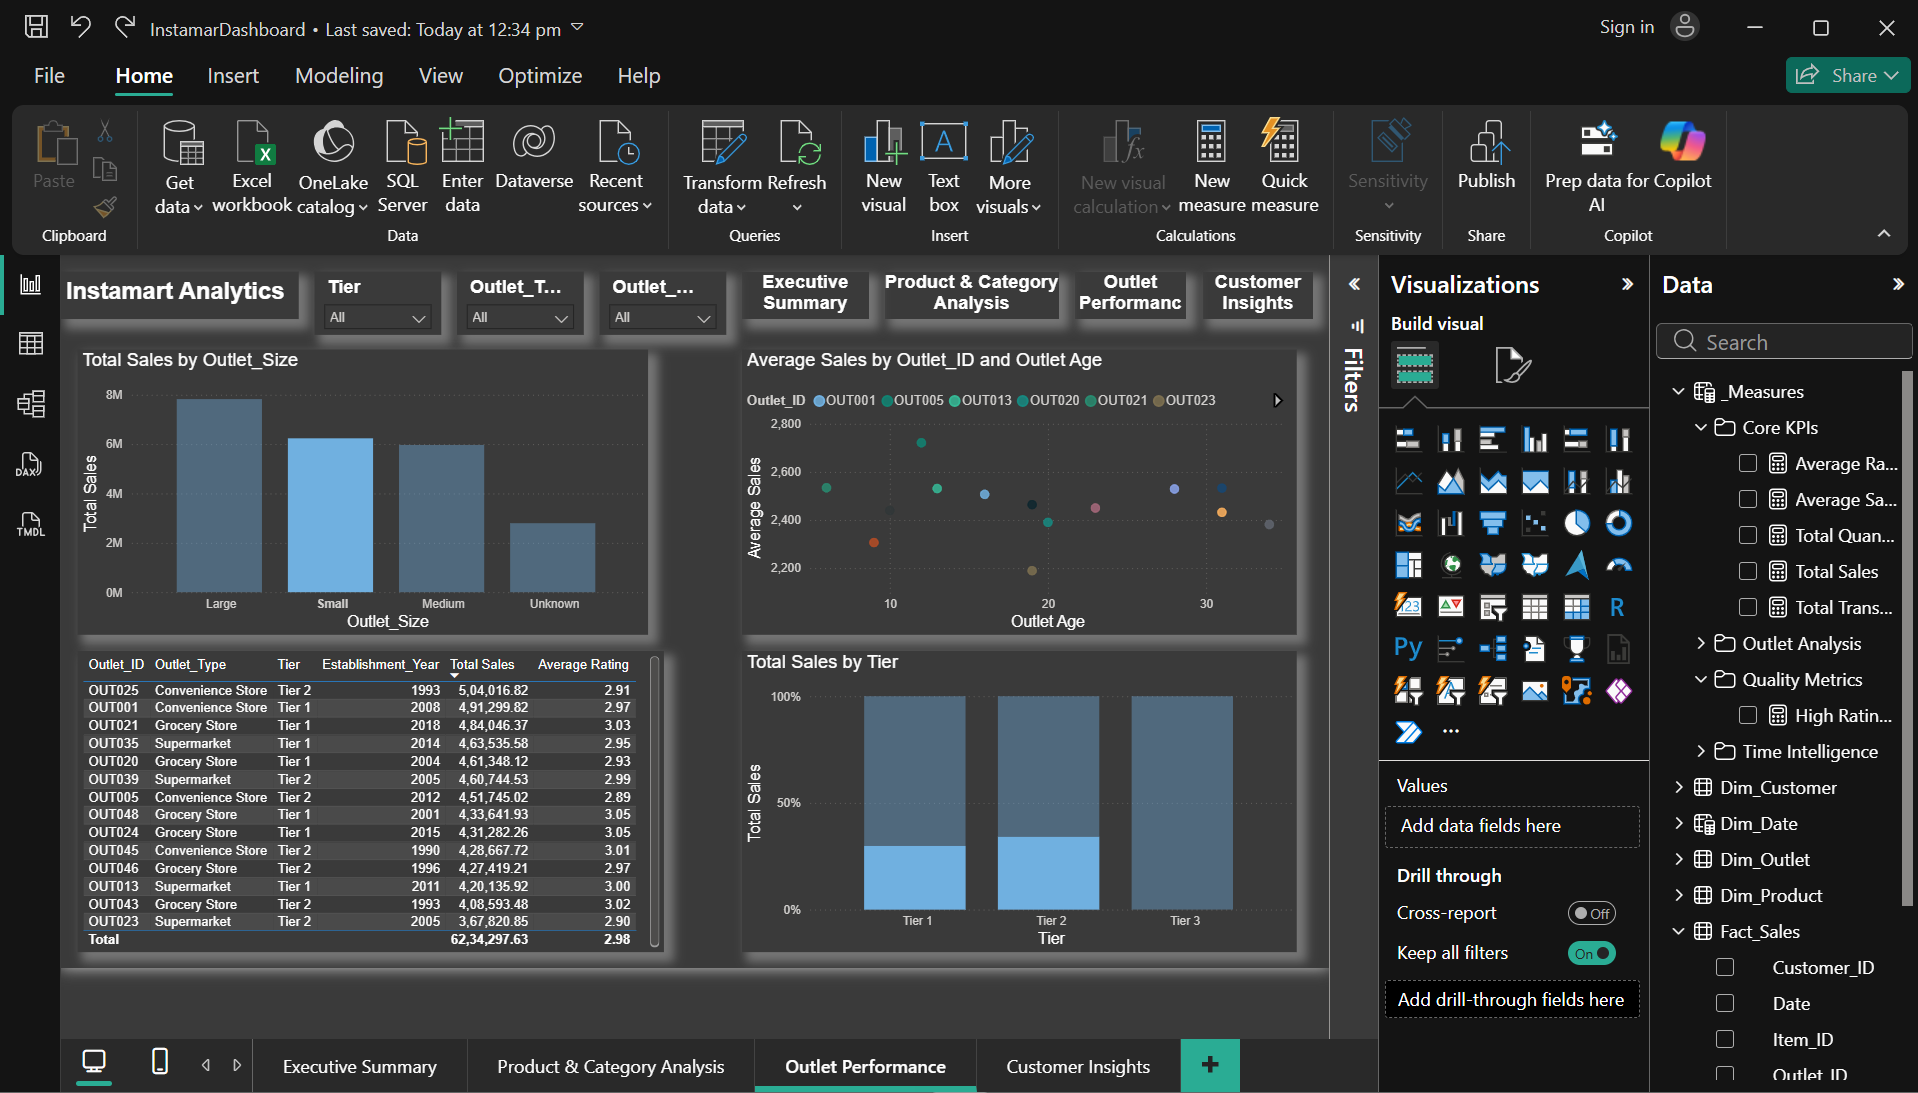

The dashboard page shown, as its layout file describes it:
{"tool":"powerbi","page":{"name":"Outlet Performance","canvas":[1280,720],"ordinal":2},"visuals":[{"type":"textbox","box":[0,0,240,48],"z":0},{"type":"slicer","fields":{"Values":["Dim_Outlet.Tier"]},"box":[256,0,128,64],"z":1000},{"type":"slicer","fields":{"Values":["Dim_Outlet.Outlet_Type"]},"box":[400,0,128,64],"z":2000},{"type":"slicer","fields":{"Values":["Dim_Outlet.Outlet_Size"]},"box":[544,0,128,64],"z":3000},{"type":"actionButton","title":"Executive Summary","box":[688,0,144,48],"z":4000},{"type":"actionButton","title":"Product & Category Analysis","box":[848,0,176,48],"z":5000},{"type":"actionButton","title":"Outlet Performance","box":[1040,0,112,48],"z":6000},{"type":"clusteredColumnChart","fields":{"Category":["Dim_Outlet.Outlet_Size"],"Y":["_Measures.Total Sales"]},"box":[16,96,576,288],"z":7000},{"type":"scatterChart","fields":{"X":["Dim_Outlet.Outlet Age"],"Y":["_Measures.Average Sales"],"Series":["Fact_Sales.Outlet_ID"]},"box":[688,96,560,288],"z":8000},{"type":"tableEx","fields":{"Values":["Dim_Outlet.Outlet_ID","Dim_Outlet.Outlet_Type","Dim_Outlet.Tier","Dim_Outlet.Establishment_Year","_Measures.Total Sales","_Measures.Average Rating"]},"box":[16,400,592,320],"z":9000},{"type":"hundredPercentStackedColumnChart","fields":{"Category":["Dim_Outlet.Tier"],"Y":["_Measures.Total Sales"]},"box":[688,400,560,304],"z":10000},{"type":"actionButton","title":"Customer Insights ","box":[1168,0,112,48],"z":11000}]}

Visuals, with their boxes on the page's 1280x720 design canvas (x1, y1, x2, y2). These are canvas units, not pixel positions in the 1918x1093 screenshot, which may show the page scaled, cropped or inside an application window:
textbox: [0,0,240,48]
slicer - Dim_Outlet.Tier: [256,0,384,64]
slicer - Dim_Outlet.Outlet_Type: [400,0,528,64]
slicer - Dim_Outlet.Outlet_Size: [544,0,672,64]
"Executive Summary" actionButton: [688,0,832,48]
"Product & Category Analysis" actionButton: [848,0,1024,48]
"Outlet Performance" actionButton: [1040,0,1152,48]
clusteredColumnChart - Dim_Outlet.Outlet_Size x _Measures.Total Sales: [16,96,592,384]
scatterChart - Dim_Outlet.Outlet Age x _Measures.Average Sales: [688,96,1248,384]
tableEx - Dim_Outlet.Outlet_ID x Dim_Outlet.Outlet_Type: [16,400,608,720]
hundredPercentStackedColumnChart - Dim_Outlet.Tier x _Measures.Total Sales: [688,400,1248,704]
"Customer Insights " actionButton: [1168,0,1280,48]
